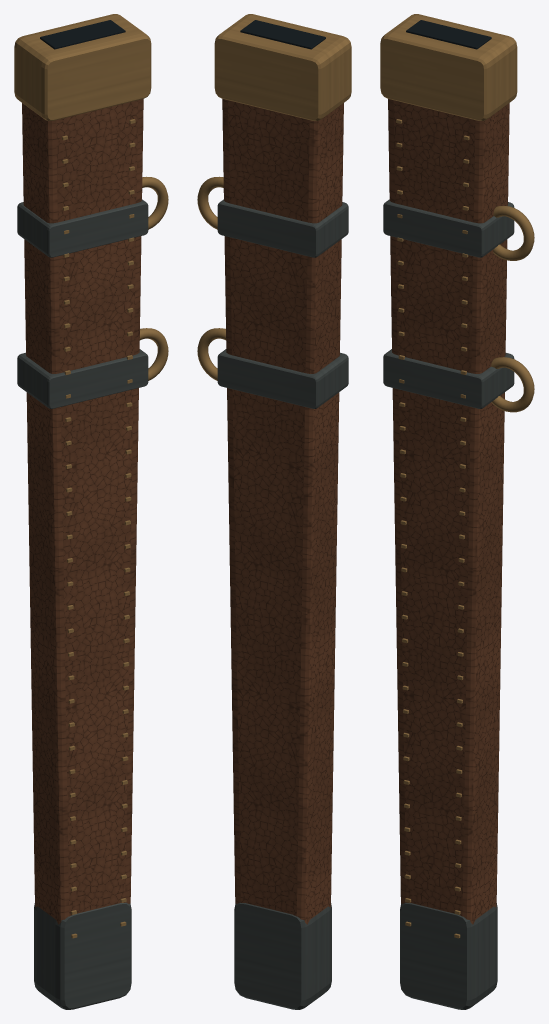
The picture shows the model from 3 angles, left to right: view 1: azimuth 30°, elevation 25°; view 2: azimuth 150°, elevation 25°; view 3: azimuth 330°, elevation 25°; orthographic projection.
Parts seen in each view (by area): view 1: saddle leather, machined receiver, edge hardware, recess shadow; view 2: saddle leather, machined receiver, edge hardware, recess shadow; view 3: saddle leather, machined receiver, edge hardware, recess shadow.
Part boxes in pixels (x1,y1,x2,y2): saddle leather: (22, 99, 143, 924); machined receiver: (17, 199, 148, 1009); edge hardware: (14, 14, 168, 938); recess shadow: (40, 20, 125, 49); saddle leather: (222, 99, 343, 924); machined receiver: (217, 199, 348, 1009); edge hardware: (197, 14, 351, 380); recess shadow: (240, 20, 325, 49); saddle leather: (388, 99, 509, 924); machined receiver: (383, 199, 514, 1009); edge hardware: (380, 14, 534, 938); recess shadow: (406, 20, 491, 49).
Bounding box in the file's own units: 0.0866 × 0.5721 × 0.0354.
4 materials, 3 textured.
